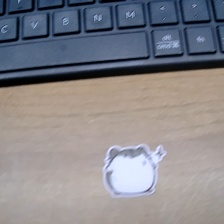mouse: (102, 143, 173, 198)
